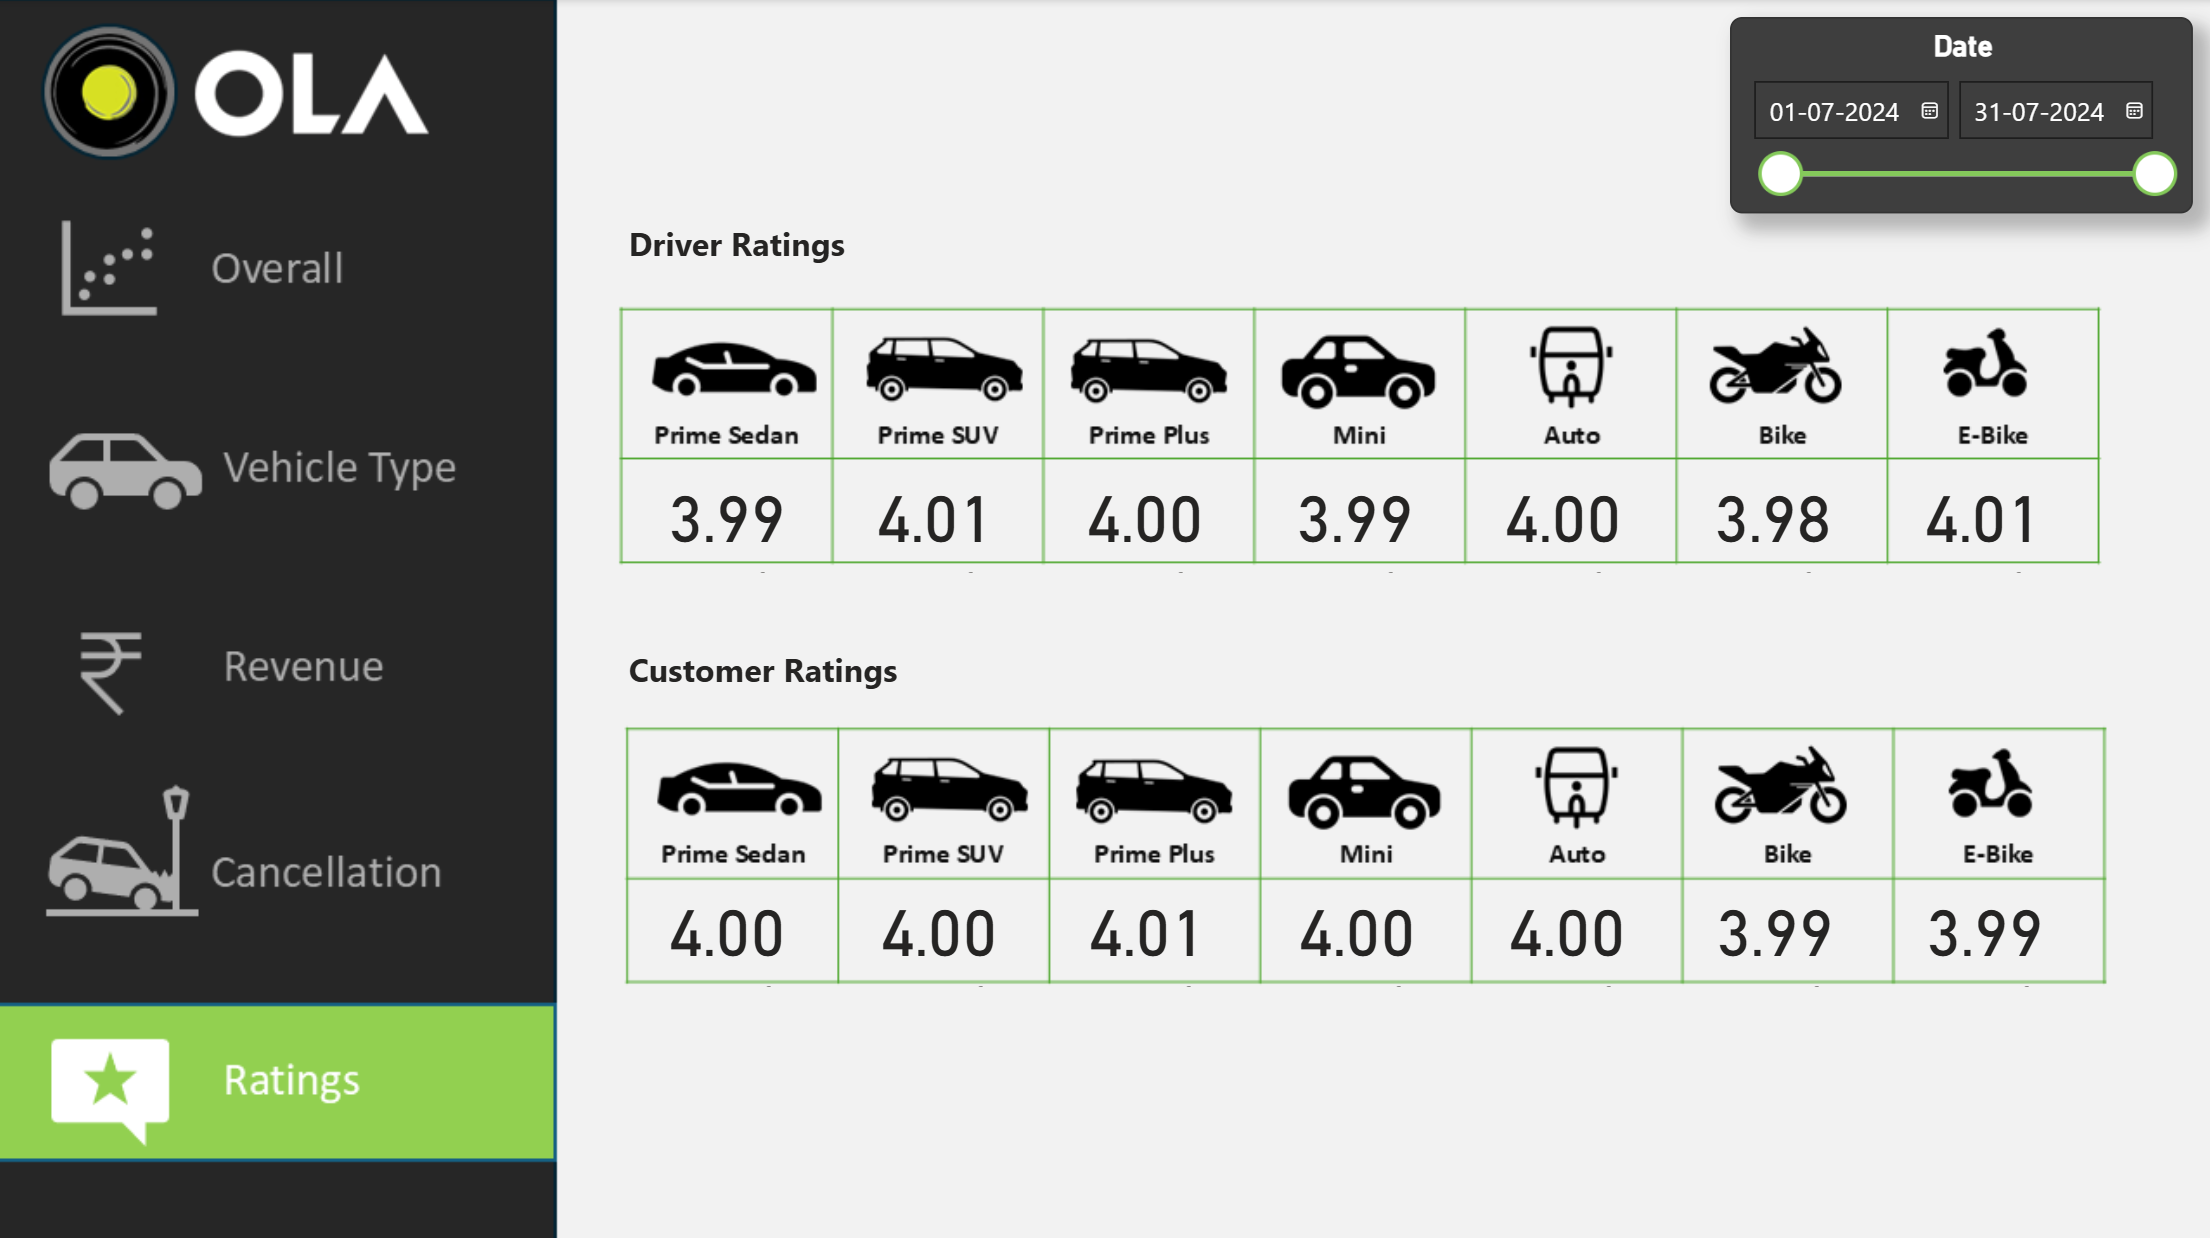

What the dashboard file says about the page in this screenshot:
{"tool":"powerbi","page":{"name":"Rating","canvas":[1280,720],"ordinal":4},"visuals":[{"type":"actionButton","box":[0,111.8,324.6,94.9],"z":0},{"type":"actionButton","box":[0,220.5,324.6,94.9],"z":1000},{"type":"actionButton","box":[0,336.8,324.6,94.9],"z":2000},{"type":"actionButton","box":[0,451.7,324.6,94.9],"z":3000},{"type":"actionButton","box":[0,576.3,323.8,95.6],"z":4000},{"type":"slicer","title":"Date","fields":{"Values":["Bookings.Date"]},"box":[1002.1,10.2,267.7,113.5],"z":5000},{"type":"textbox","box":[360.8,123.7,135.1,38.2],"z":6000},{"type":"textbox","box":[360.8,369.7,178.5,34.4],"z":7000},{"type":"card","fields":{"Values":["Avg(Bookings.Driver_Ratings)"]},"box":[361.3,278.7,121,58.2],"z":8000},{"type":"card","fields":{"Values":["Avg(Bookings.Driver_Ratings)"]},"box":[482.3,278.7,121,58.2],"z":9000},{"type":"card","fields":{"Values":["Avg(Bookings.Driver_Ratings)"]},"box":[603.3,278.7,121,58.2],"z":10000},{"type":"card","fields":{"Values":["Avg(Bookings.Driver_Ratings)"]},"box":[724.2,278.7,121,58.2],"z":11000},{"type":"card","fields":{"Values":["Avg(Bookings.Driver_Ratings)"]},"box":[845.2,278.7,121,58.2],"z":12000},{"type":"card","fields":{"Values":["Avg(Bookings.Driver_Ratings)"]},"box":[966.1,278.7,121,58.2],"z":13000},{"type":"card","fields":{"Values":["Avg(Bookings.Driver_Ratings)"]},"box":[1087.1,278.7,121,58.2],"z":14000},{"type":"card","fields":{"Values":["Avg(Bookings.Customer_Rating)"]},"box":[361.3,517.5,121,58.2],"z":15000},{"type":"card","fields":{"Values":["Avg(Bookings.Customer_Rating)"]},"box":[483.8,517.5,121,58.2],"z":16000},{"type":"card","fields":{"Values":["Avg(Bookings.Customer_Rating)"]},"box":[604.8,517.5,121,58.2],"z":17000},{"type":"card","fields":{"Values":["Avg(Bookings.Customer_Rating)"]},"box":[725.7,517.5,121,58.2],"z":18000},{"type":"card","fields":{"Values":["Avg(Bookings.Customer_Rating)"]},"box":[846.7,517.5,121,58.2],"z":19000},{"type":"card","fields":{"Values":["Avg(Bookings.Customer_Rating)"]},"box":[967.7,517.5,121,58.2],"z":20000},{"type":"card","fields":{"Values":["Avg(Bookings.Customer_Rating)"]},"box":[1088.6,517.5,121,58.2],"z":21000}]}

Visuals, with their boxes in screenshot pixels (x1, y1, x2, y2), scaled from the page's 1280x720 canvas onto the 2210x1238 screenshot:
actionButton: x1=0, y1=192, x2=560, y2=355
actionButton: x1=0, y1=379, x2=560, y2=542
actionButton: x1=0, y1=579, x2=560, y2=742
actionButton: x1=0, y1=777, x2=560, y2=940
actionButton: x1=0, y1=991, x2=559, y2=1155
"Date" slicer: x1=1730, y1=18, x2=2192, y2=213
textbox: x1=623, y1=213, x2=856, y2=278
textbox: x1=623, y1=636, x2=931, y2=695
card - Avg(Bookings.Driver_Ratings): x1=624, y1=479, x2=833, y2=579
card - Avg(Bookings.Driver_Ratings): x1=833, y1=479, x2=1042, y2=579
card - Avg(Bookings.Driver_Ratings): x1=1042, y1=479, x2=1251, y2=579
card - Avg(Bookings.Driver_Ratings): x1=1250, y1=479, x2=1459, y2=579
card - Avg(Bookings.Driver_Ratings): x1=1459, y1=479, x2=1668, y2=579
card - Avg(Bookings.Driver_Ratings): x1=1668, y1=479, x2=1877, y2=579
card - Avg(Bookings.Driver_Ratings): x1=1877, y1=479, x2=2086, y2=579
card - Avg(Bookings.Customer_Rating): x1=624, y1=890, x2=833, y2=990
card - Avg(Bookings.Customer_Rating): x1=835, y1=890, x2=1044, y2=990
card - Avg(Bookings.Customer_Rating): x1=1044, y1=890, x2=1253, y2=990
card - Avg(Bookings.Customer_Rating): x1=1253, y1=890, x2=1462, y2=990
card - Avg(Bookings.Customer_Rating): x1=1462, y1=890, x2=1671, y2=990
card - Avg(Bookings.Customer_Rating): x1=1671, y1=890, x2=1880, y2=990
card - Avg(Bookings.Customer_Rating): x1=1880, y1=890, x2=2088, y2=990
